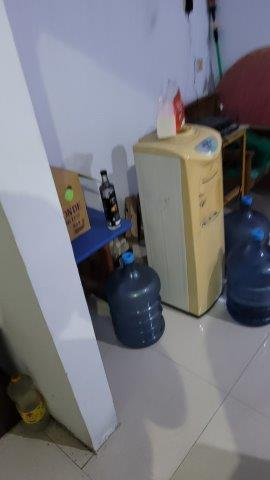botolkaca: (97, 170, 121, 232)
